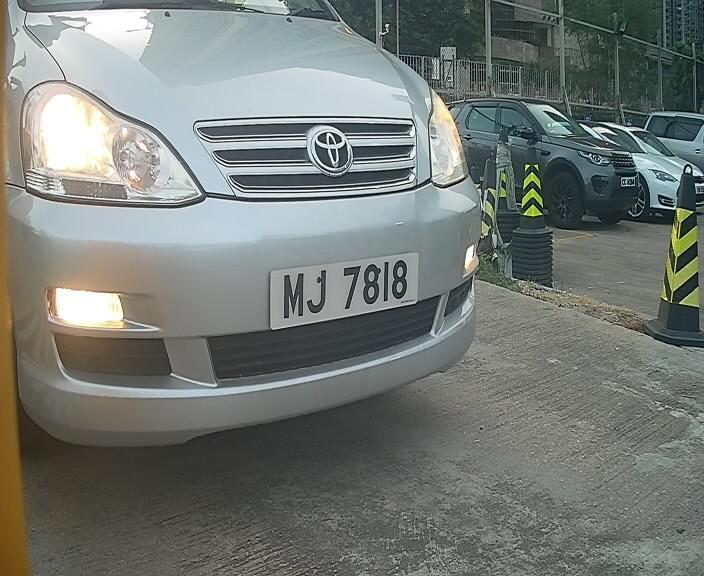privatecar: (10, 1, 516, 445)
